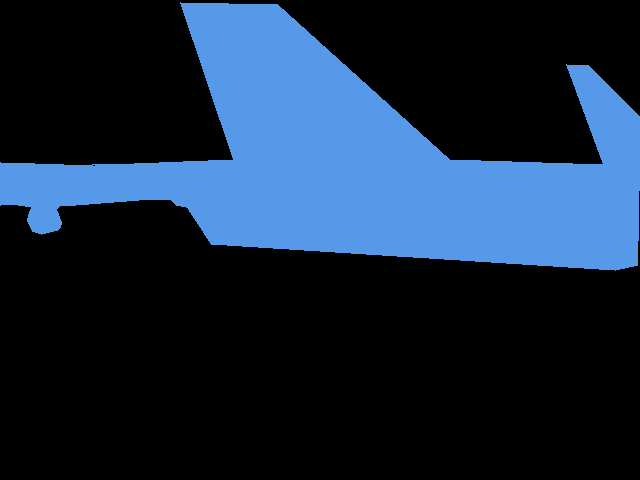Airplane: (92, 2, 640, 270), (0, 162, 209, 234)
